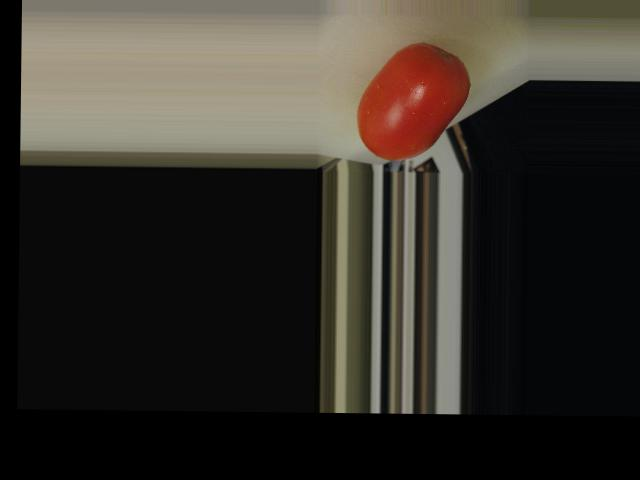tomato: (356, 42, 470, 161)
